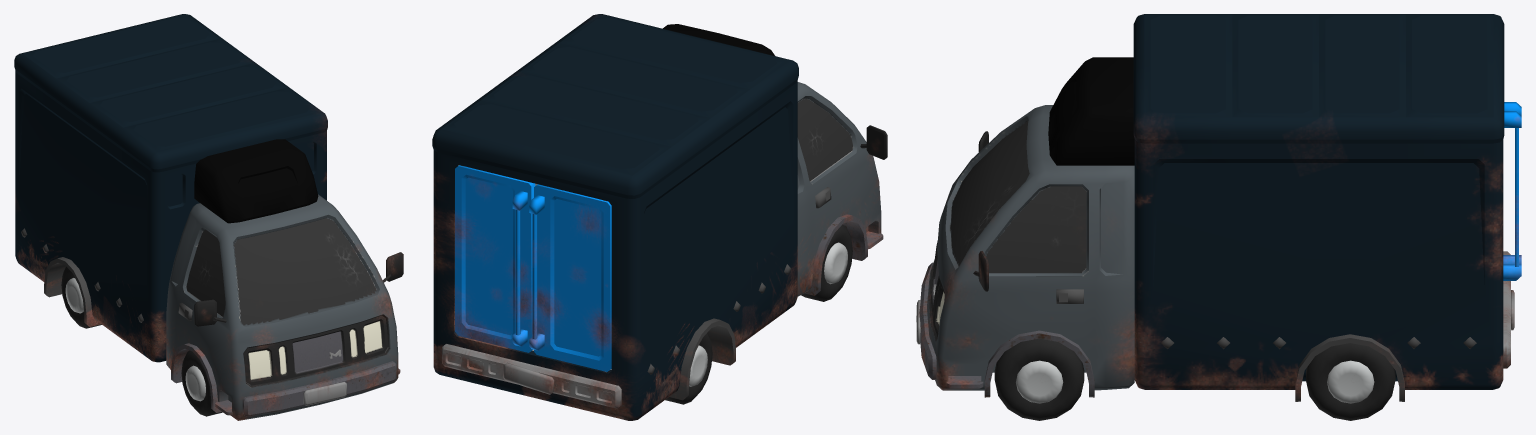
The model's file is VHC0110016.FBX.
The picture shows the model from 3 angles, left to right: view 1: azimuth 30°, elevation 25°; view 2: azimuth 150°, elevation 25°; view 3: azimuth 270°, elevation 25°; orthographic projection. The views are drawn at different scales.
Visible parts, largest first — view 1: smVHC0110016; view 2: smVHC0110016; view 3: smVHC0110016.
Boxes of the visible parts, x1,y1,x2,y2 form: smVHC0110016: (14,14,403,420); smVHC0110016: (432,14,887,420); smVHC0110016: (916,14,1521,420).
Size of the model in its own units: 279 by 300 by 540.
1 material, 1 textured.
